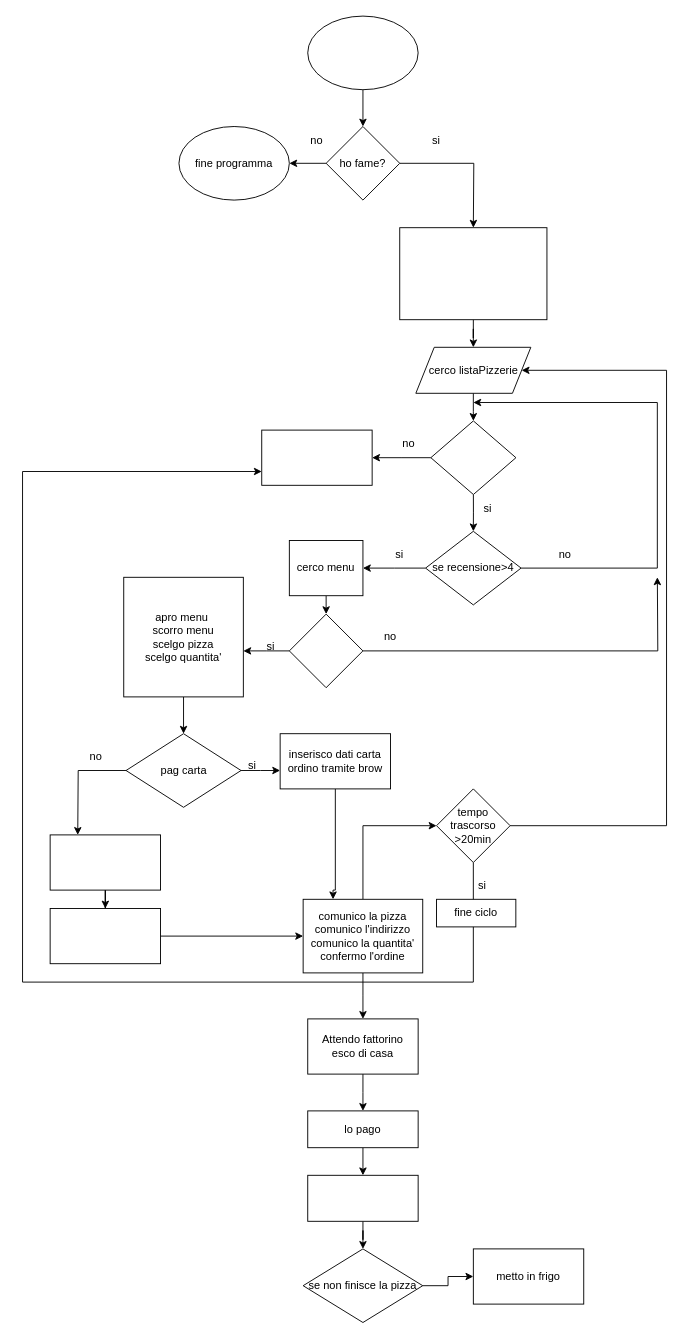
Some shapes in this 690 by 1339 pixel diagram are drawn without their labels. The box of each missing label's shape, as (x1, y1, x2, y2) in pixels:
apro google cerco pizzeria asporto trovo lista pizzeria: (399, 227, 547, 320)
aspetto fattorino: (49, 834, 161, 890)
digiuno: (261, 429, 372, 485)
inizio del programma: (307, 15, 418, 90)
non lo trovo: (288, 613, 363, 688)
pago all'arrivo fattorino: (49, 908, 161, 964)
pizzeria in listaPizzerie: (430, 420, 516, 494)
porto la pizza in casa apparecchio mangio la pizza: (307, 1174, 418, 1221)
